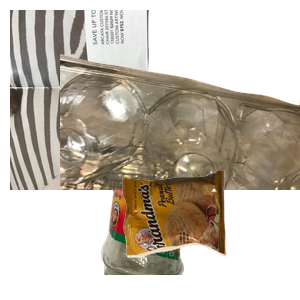glass: (98, 120, 286, 300)
paper: (10, 10, 250, 190)
plastic: (60, 52, 300, 232)
trash: (120, 168, 300, 300)
